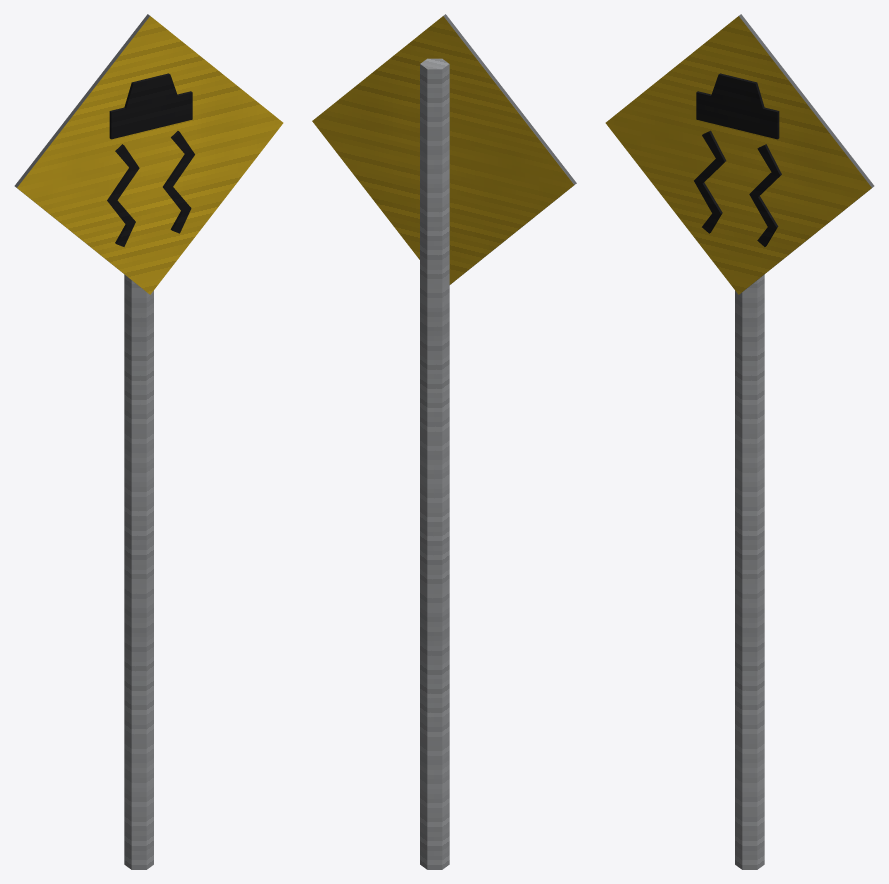
The model's file is placa_agua_pista.glb.
3 views of the same model, side by side, from view 1: azimuth 30°, elevation 25°; view 2: azimuth 150°, elevation 25°; view 3: azimuth 330°, elevation 25° (orthographic).
Visible parts, largest first — view 1: Inteiro; view 2: Inteiro; view 3: Inteiro.
Boxes of the visible parts, left/top/right/bottom form: Inteiro: left=14, top=14, right=283, bottom=869; Inteiro: left=312, top=14, right=576, bottom=869; Inteiro: left=605, top=14, right=874, bottom=869.
Size of the model in its own units: 0.72 by 2.21 by 0.095.
Materials: 1 (1 with a texture image).
